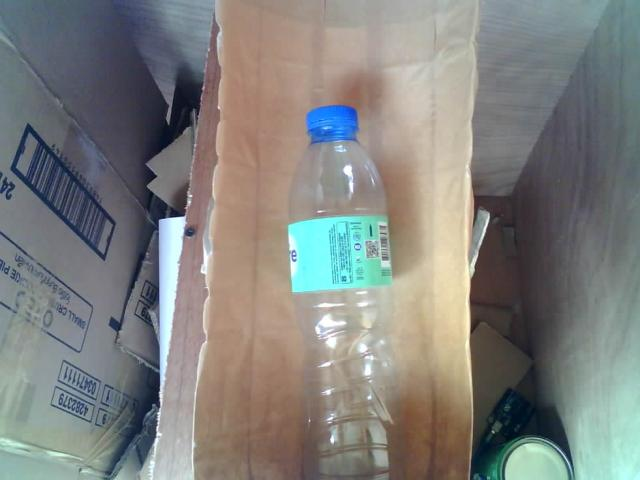small_bottle: (265, 96, 415, 480)
